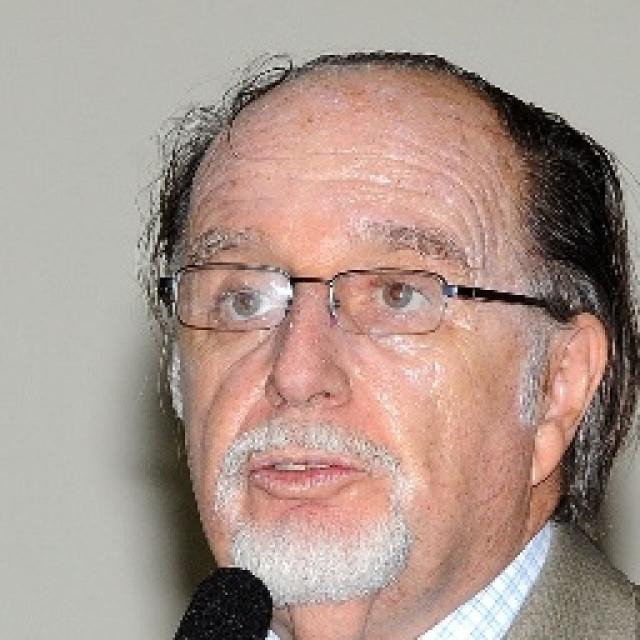earlobe: (527, 312, 606, 486)
